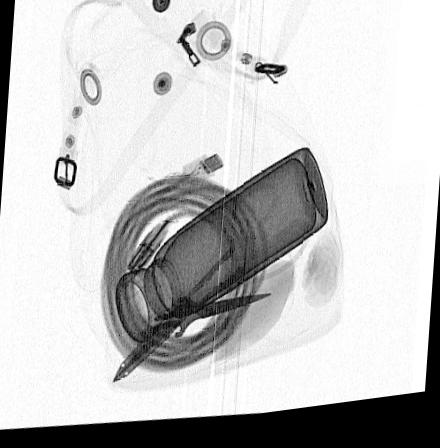Scissors: (112, 190, 312, 385), (124, 283, 276, 370)
